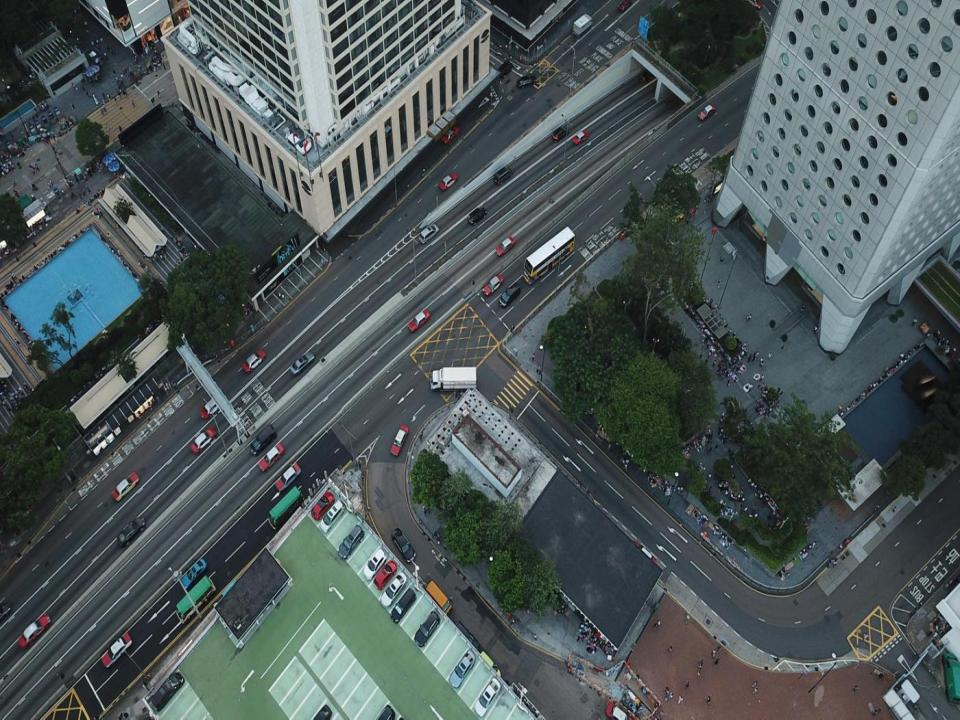bus: (522, 226, 575, 286), (176, 574, 216, 622), (267, 484, 301, 529)
car: (150, 671, 185, 711), (18, 612, 51, 652), (101, 632, 132, 668), (474, 676, 500, 716), (449, 651, 475, 688), (380, 573, 407, 608), (115, 518, 146, 548), (181, 556, 207, 590), (414, 612, 439, 647), (111, 472, 139, 503), (338, 525, 363, 559), (391, 527, 415, 562), (258, 442, 284, 472), (320, 500, 344, 532), (276, 462, 301, 492), (373, 559, 397, 590), (363, 548, 386, 580), (190, 427, 217, 453), (310, 491, 334, 520), (242, 347, 266, 375), (289, 352, 315, 376), (390, 425, 408, 457), (200, 391, 220, 419), (408, 308, 430, 333), (605, 701, 633, 719), (417, 223, 439, 244), (482, 274, 503, 295), (495, 236, 515, 256), (494, 166, 514, 184), (698, 103, 716, 122), (441, 126, 459, 144), (468, 207, 486, 225), (439, 174, 458, 191), (516, 75, 536, 89), (638, 66, 658, 80), (552, 126, 569, 142), (498, 61, 512, 80), (571, 131, 589, 145), (748, 0, 763, 8), (618, 1, 631, 10)
truck: (430, 366, 477, 391)
van: (425, 579, 452, 617), (941, 652, 960, 704), (247, 424, 276, 456), (390, 588, 416, 623), (453, 622, 478, 652), (478, 650, 500, 679), (499, 281, 521, 309)
